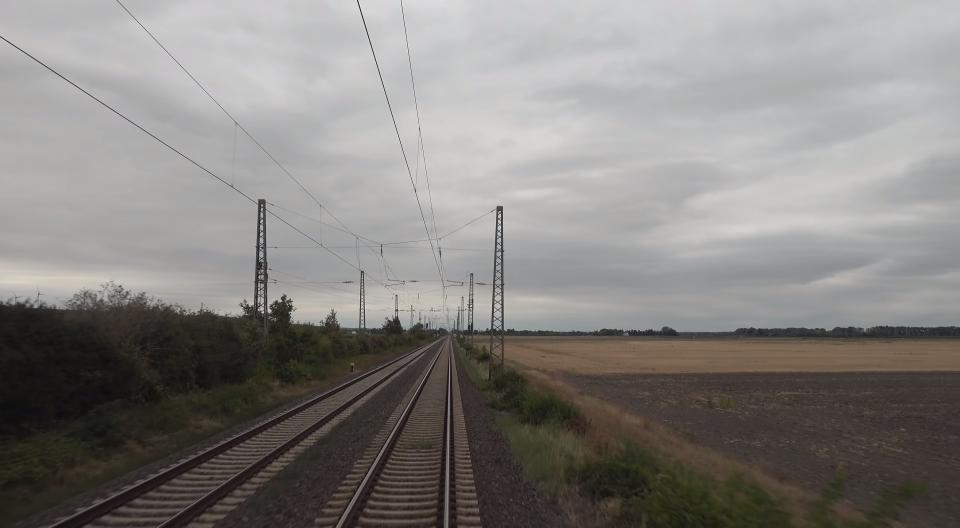Plant: (245, 445, 321, 515), (401, 437, 433, 452), (316, 434, 338, 447)
